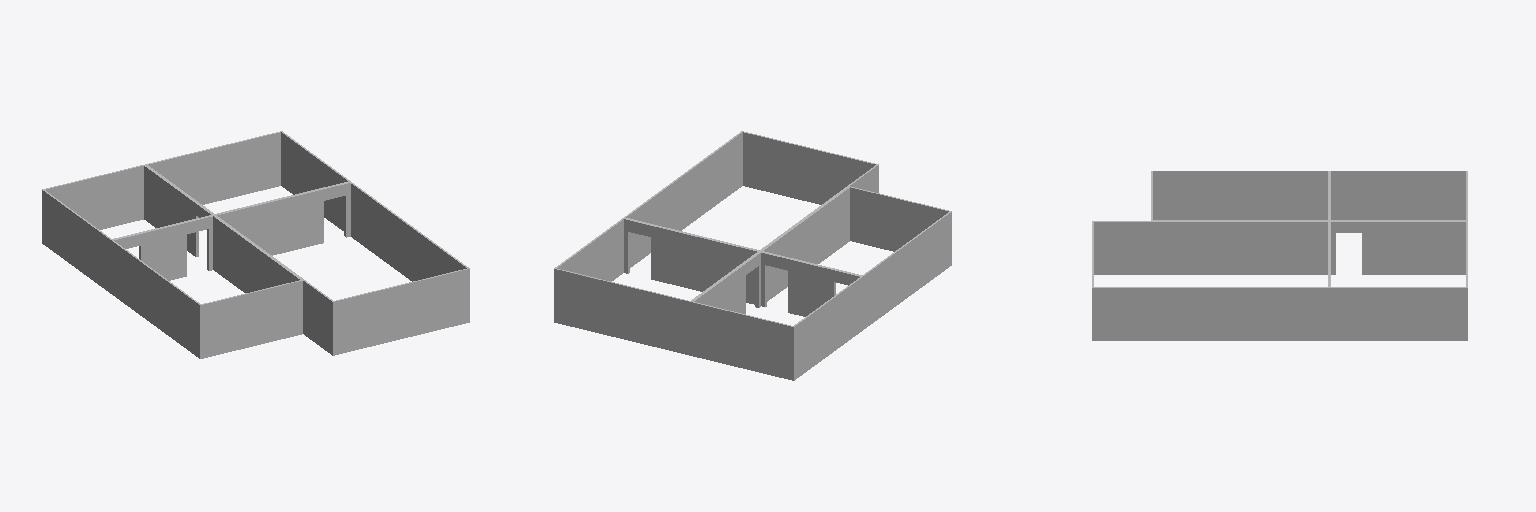
Rendered from house_basement_wall.obj.
The picture shows the model from 3 angles: view 1: azimuth 30°, elevation 25°; view 2: azimuth 150°, elevation 25°; view 3: azimuth 270°, elevation 25°; orthographic projection.
Parts seen in each view (by area): view 1: Cube.048_Mesh, Cube.059_Mesh, Cube.129_Mesh, Cube.046_Mesh, Cube.049_Mesh, Cube.050_Mesh, Cube.052_Mesh, Cube.051_Mesh, Cube.054_Mesh; view 2: Cube.048_Mesh, Cube.059_Mesh, Cube.129_Mesh, Cube.046_Mesh, Cube.049_Mesh, Cube.052_Mesh, Cube.050_Mesh, Cube.051_Mesh; view 3: Cube.046_Mesh, Cube.059_Mesh, Cube.052_Mesh, Cube.051_Mesh, Cube.054_Mesh.
Boxes of the visible parts, <box> form: Cube.048_Mesh: <box>44,132,280,229</box>; Cube.059_Mesh: <box>42,189,201,358</box>; Cube.129_Mesh: <box>112,181,350,280</box>; Cube.046_Mesh: <box>280,131,469,322</box>; Cube.049_Mesh: <box>334,268,467,354</box>; Cube.050_Mesh: <box>201,280,300,358</box>; Cube.052_Mesh: <box>213,216,303,334</box>; Cube.051_Mesh: <box>144,165,213,256</box>; Cube.054_Mesh: <box>303,280,334,355</box>; Cube.048_Mesh: <box>556,268,792,379</box>; Cube.059_Mesh: <box>792,211,951,380</box>; Cube.129_Mesh: <box>624,218,861,316</box>; Cube.046_Mesh: <box>554,131,743,322</box>; Cube.049_Mesh: <box>743,132,876,204</box>; Cube.052_Mesh: <box>761,186,850,301</box>; Cube.050_Mesh: <box>850,187,949,251</box>; Cube.051_Mesh: <box>691,252,760,313</box>; Cube.046_Mesh: <box>1092,287,1467,340</box>; Cube.059_Mesh: <box>1153,171,1465,219</box>; Cube.052_Mesh: <box>1151,220,1327,274</box>; Cube.051_Mesh: <box>1331,220,1465,274</box>; Cube.054_Mesh: <box>1092,221,1150,274</box>.
Bounding box in the file's own units: 28 × 6 × 38.